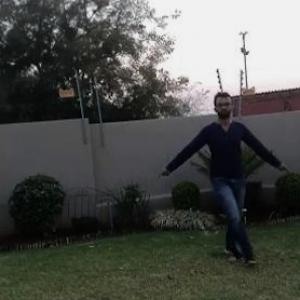land: (170, 95, 290, 261)
